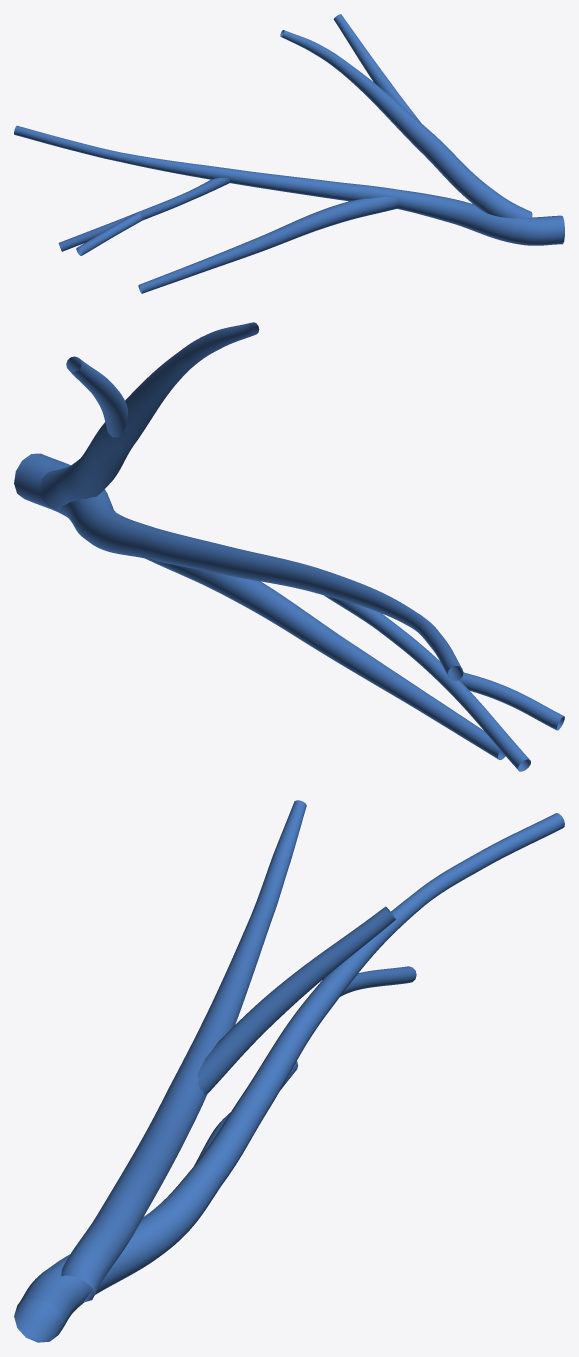
3 renders of one model, top to bottom at view 1: azimuth 30°, elevation 25°; view 2: azimuth 150°, elevation 25°; view 3: azimuth 270°, elevation 25°, orthographic. The views are drawn at different scales.
Visible parts, largest first — view 1: 右肺底上静脉; view 2: 右肺底上静脉; view 3: 右肺底上静脉.
Boxes of the visible parts, <box> form: 右肺底上静脉: <box>14,14,564,293</box>; 右肺底上静脉: <box>14,322,564,771</box>; 右肺底上静脉: <box>14,800,564,1342</box>.
Bounding box in the file's own units: 0.1441 × 0.0765 × 0.096.
